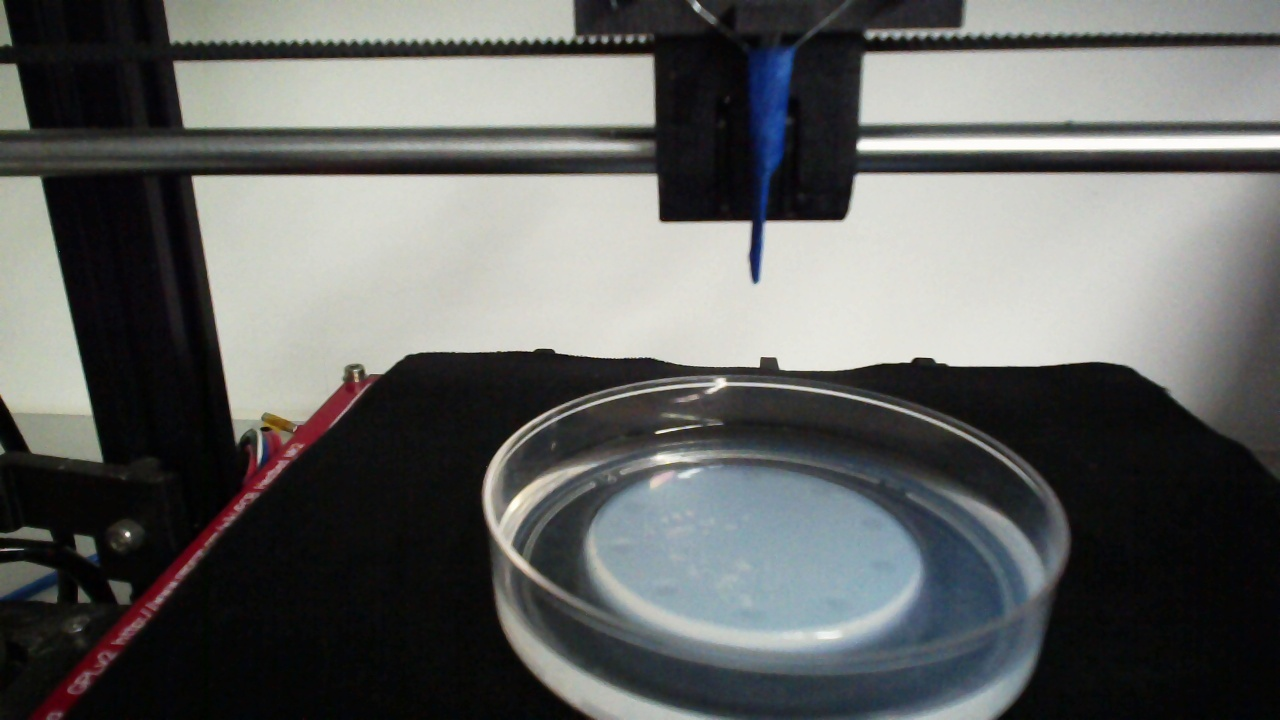groove: (643, 574, 683, 600), (614, 494, 653, 520), (603, 532, 639, 558), (821, 593, 856, 619), (866, 554, 902, 578), (857, 512, 889, 537), (804, 479, 840, 501), (734, 603, 768, 626)
needle: (748, 50, 794, 280)
